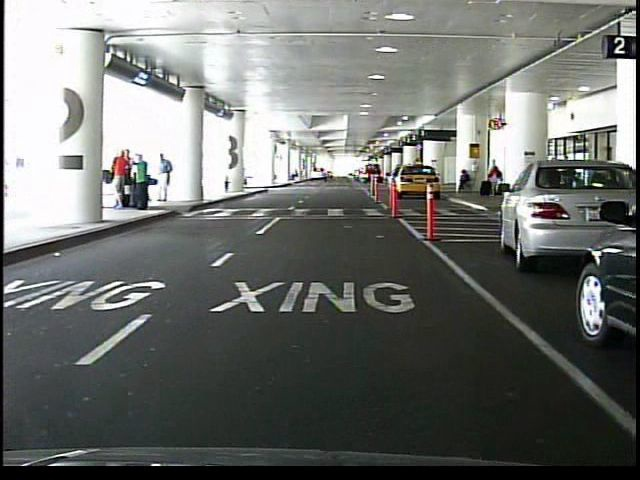person: (134, 153, 153, 211), (157, 153, 174, 205), (116, 149, 130, 208), (486, 161, 500, 198), (455, 170, 471, 196)
